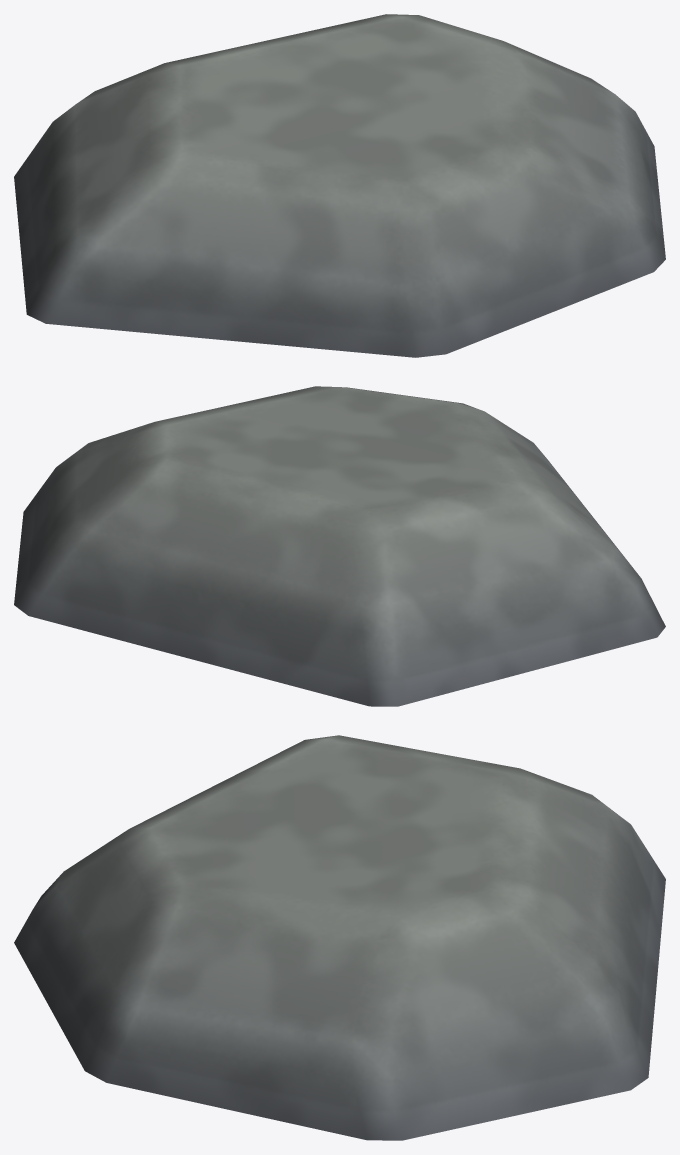
Rendered from pebble_2.glb.
The picture shows the model from 3 angles, top to bottom: view 1: azimuth 30°, elevation 25°; view 2: azimuth 150°, elevation 25°; view 3: azimuth 270°, elevation 25°; orthographic projection. The views are drawn at different scales.
Parts seen in each view (by area): view 1: pebble_2; view 2: pebble_2; view 3: pebble_2.
Boxes of the visible parts, x1=… form: pebble_2: x1=14, y1=14, x2=665, y2=357; pebble_2: x1=14, y1=386, x2=665, y2=706; pebble_2: x1=14, y1=735, x2=665, y2=1140.
Size of the model in its own units: 0.25 by 0.05 by 0.2.
Materials: 1 (1 with a texture image).
